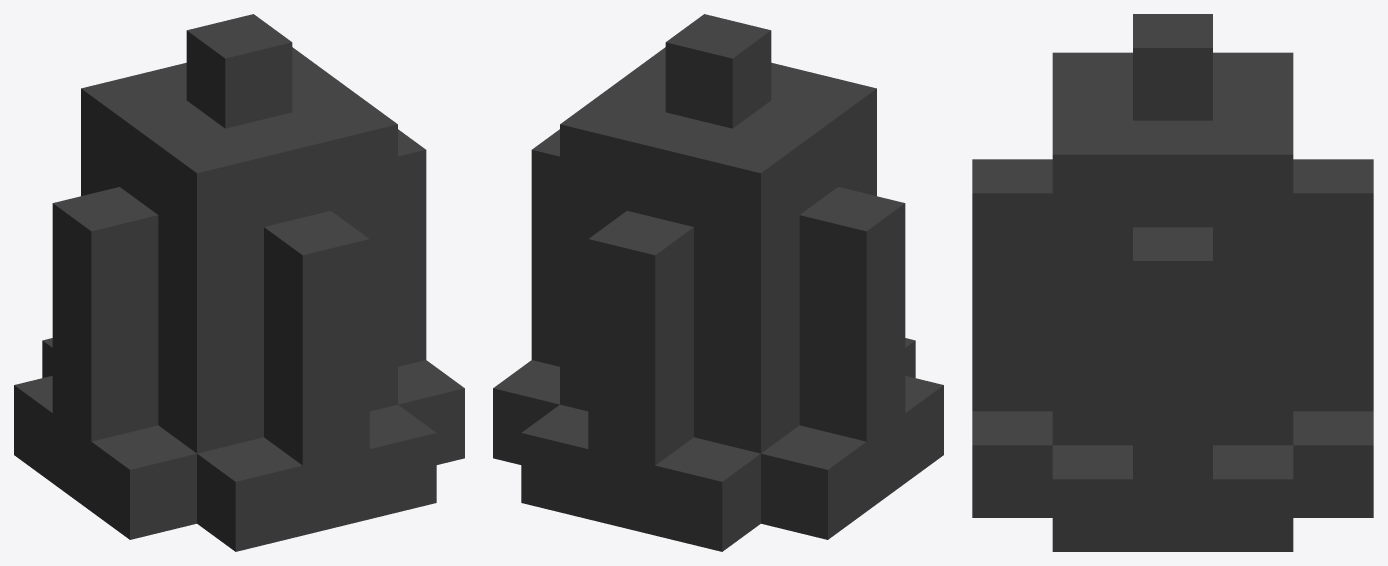
Rendered from roca1.fbx.
3 renders of one model, left to right at view 1: azimuth 30°, elevation 25°; view 2: azimuth 150°, elevation 25°; view 3: azimuth 270°, elevation 25°, orthographic. The views are drawn at different scales.
Visible parts, largest first — view 1: Roca1; view 2: Roca1; view 3: Roca1.
Part boxes in pixels (box(x1,y1,x2,y2)): Roca1: box(14, 14, 464, 551); Roca1: box(493, 14, 943, 551); Roca1: box(972, 14, 1373, 551).
Bounding box in the file's own units: 1 × 1.2 × 1.
Materials: 1 (1 with a texture image).
